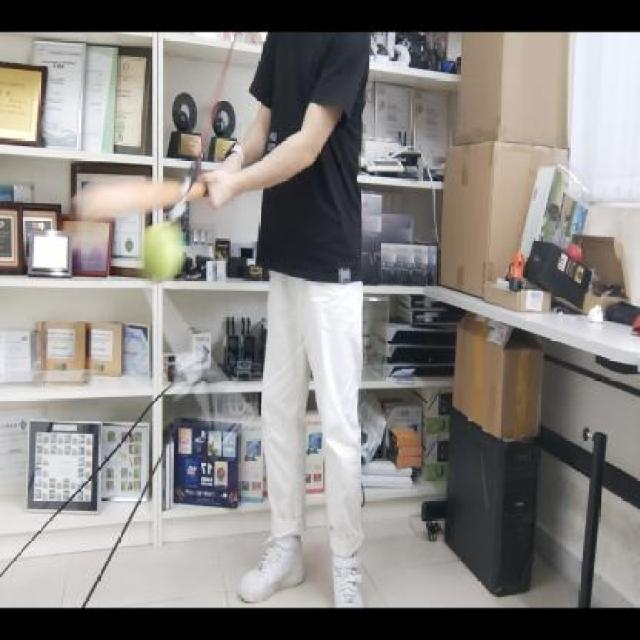baseball: (138, 221, 188, 287)
